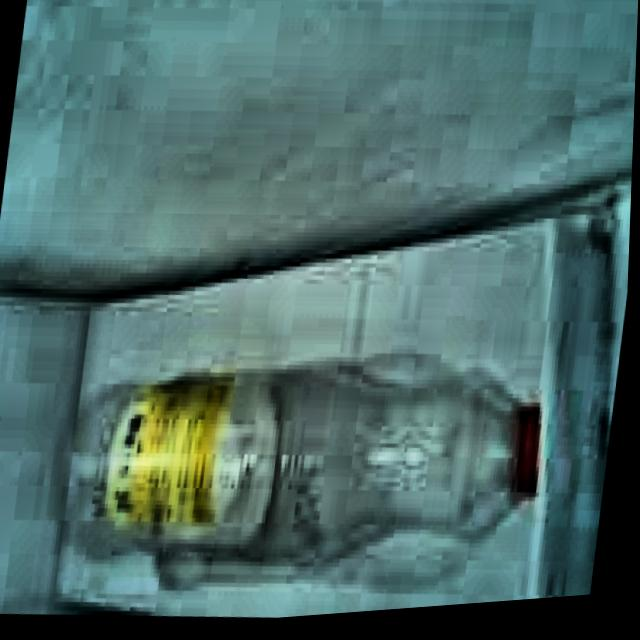Bottles: (12, 326, 614, 625)
